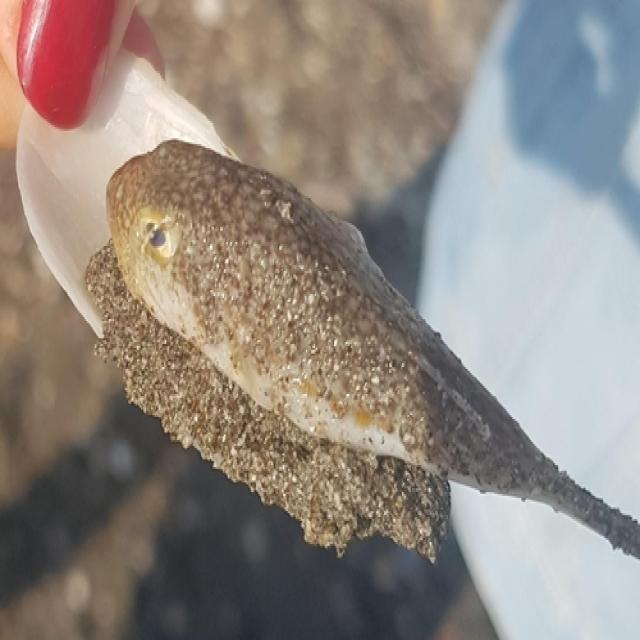Balik: (108, 141, 639, 557)
